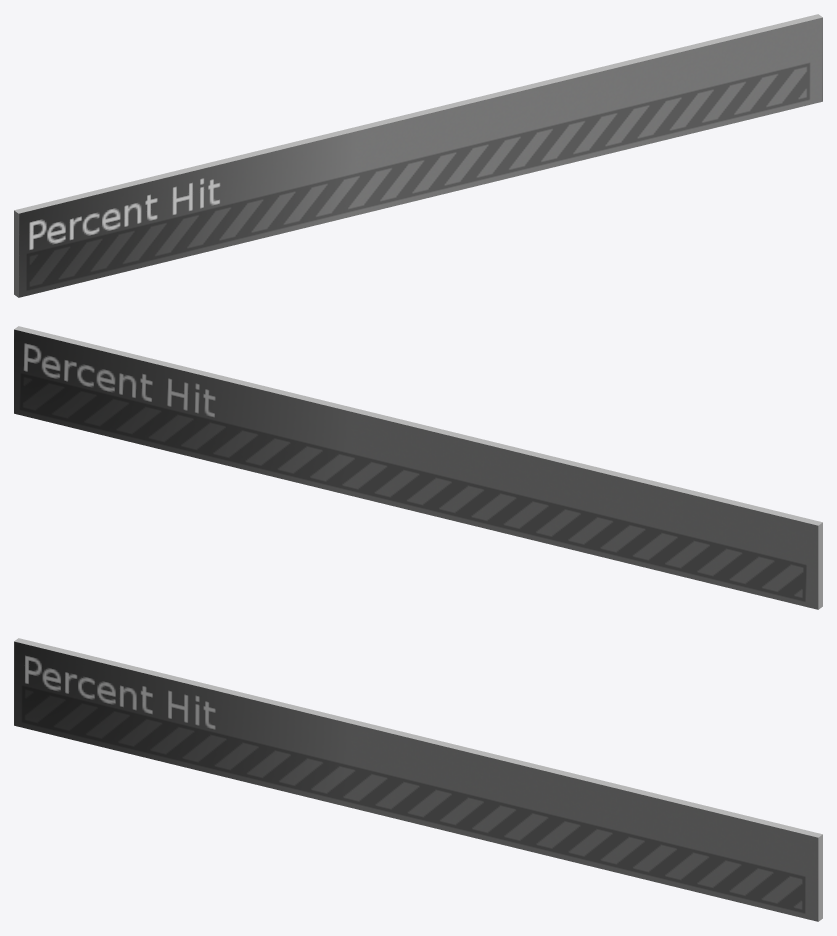
File: topPannel.obj
3 renders of one model, top to bottom at view 1: azimuth 30°, elevation 25°; view 2: azimuth 150°, elevation 25°; view 3: azimuth 330°, elevation 25°, orthographic.
Parts seen in each view (by area): view 1: Cube; view 2: Cube; view 3: Cube.
Part boxes in pixels (x1=…): Cube: x1=14, y1=14, x2=822, y2=297; Cube: x1=14, y1=326, x2=822, y2=609; Cube: x1=14, y1=638, x2=822, y2=921.
Size of the model in its own units: 20 by 2 by 0.2.
